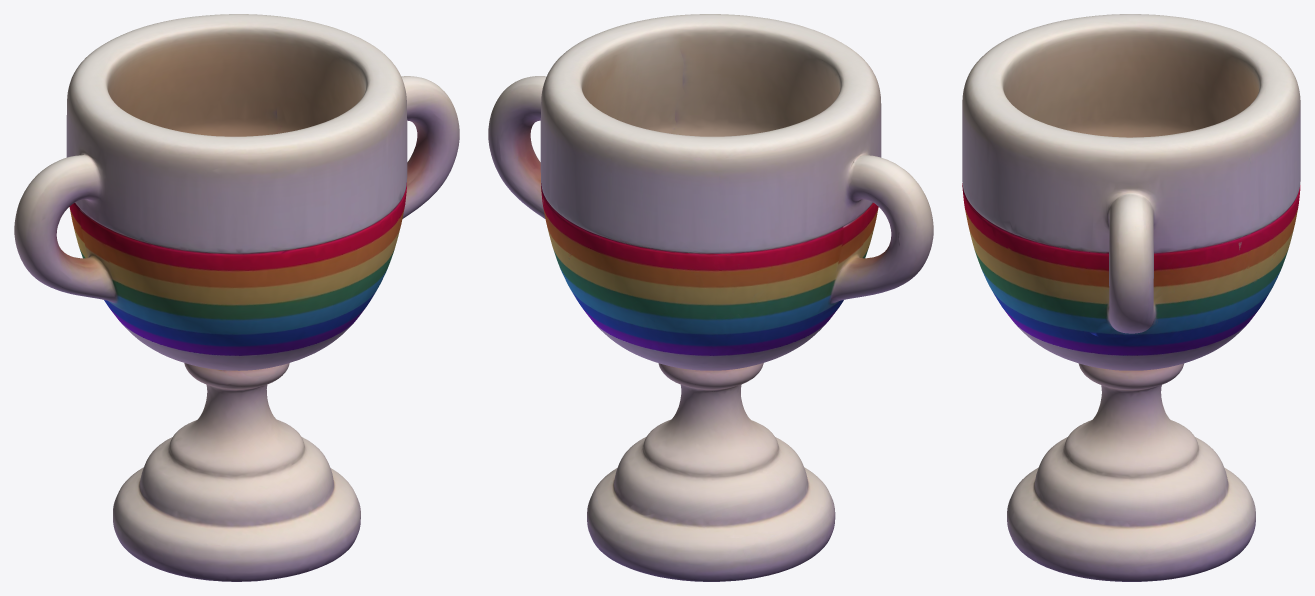
3 renders of one model, left to right at view 1: azimuth 30°, elevation 25°; view 2: azimuth 150°, elevation 25°; view 3: azimuth 270°, elevation 25°, orthographic.
Visible parts, largest first — view 1: node_0; view 2: node_0; view 3: node_0.
Boxes of the visible parts, x1=… form: node_0: x1=14, y1=14, x2=459, y2=581; node_0: x1=488, y1=14, x2=933, y2=581; node_0: x1=962, y1=14, x2=1300, y2=581.
Size of the model in its own units: 1.01 by 1 by 0.676.
1 material, 1 textured.
